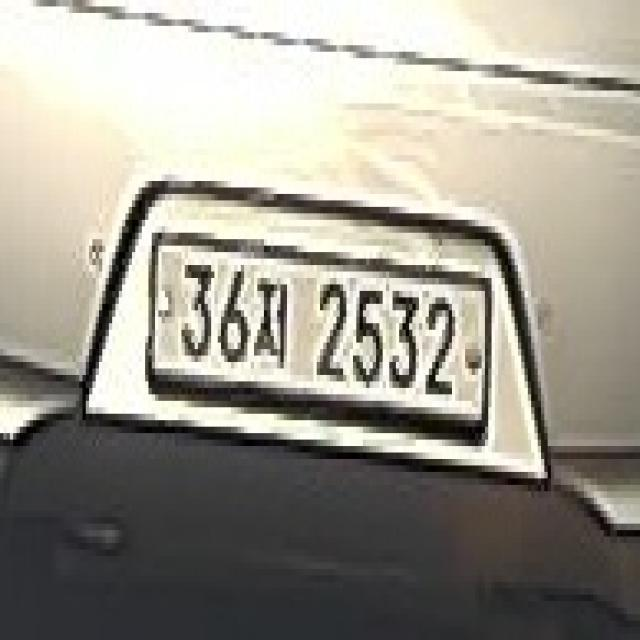plat: (141, 220, 499, 454)
